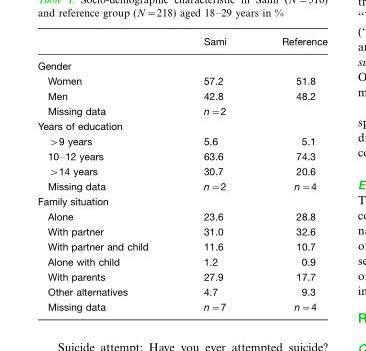table: (36, 36, 327, 312)
table column: (36, 36, 175, 312), (175, 36, 253, 312), (253, 36, 327, 312)
table column header: (36, 36, 327, 53)
table projected row header: (36, 53, 327, 73), (36, 118, 327, 133), (36, 194, 327, 208)
table row: (36, 53, 327, 73), (36, 36, 327, 53), (36, 102, 327, 118), (36, 178, 327, 194), (36, 208, 327, 224), (36, 73, 327, 88), (36, 118, 327, 133), (36, 133, 327, 148), (36, 148, 327, 163), (36, 163, 327, 178), (36, 224, 327, 239), (36, 239, 327, 254), (36, 254, 327, 269), (36, 269, 327, 284), (36, 88, 327, 102), (36, 194, 327, 208), (36, 284, 327, 298), (36, 298, 327, 312)
